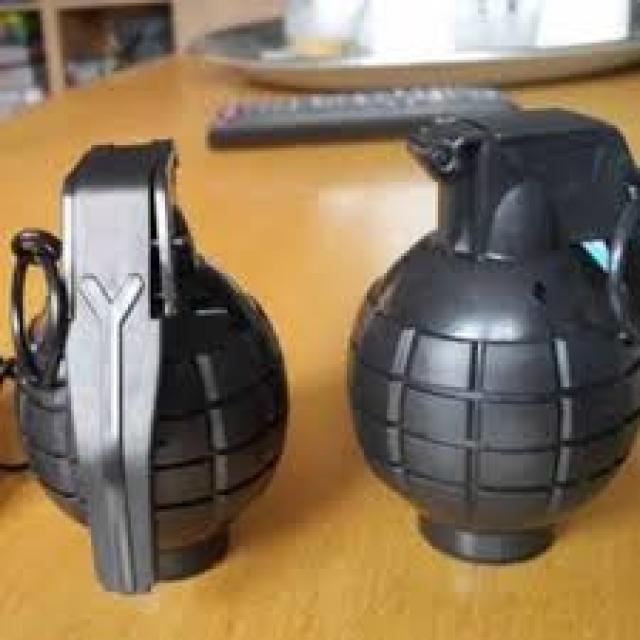grenade: (338, 99, 640, 582), (1, 137, 304, 608)
